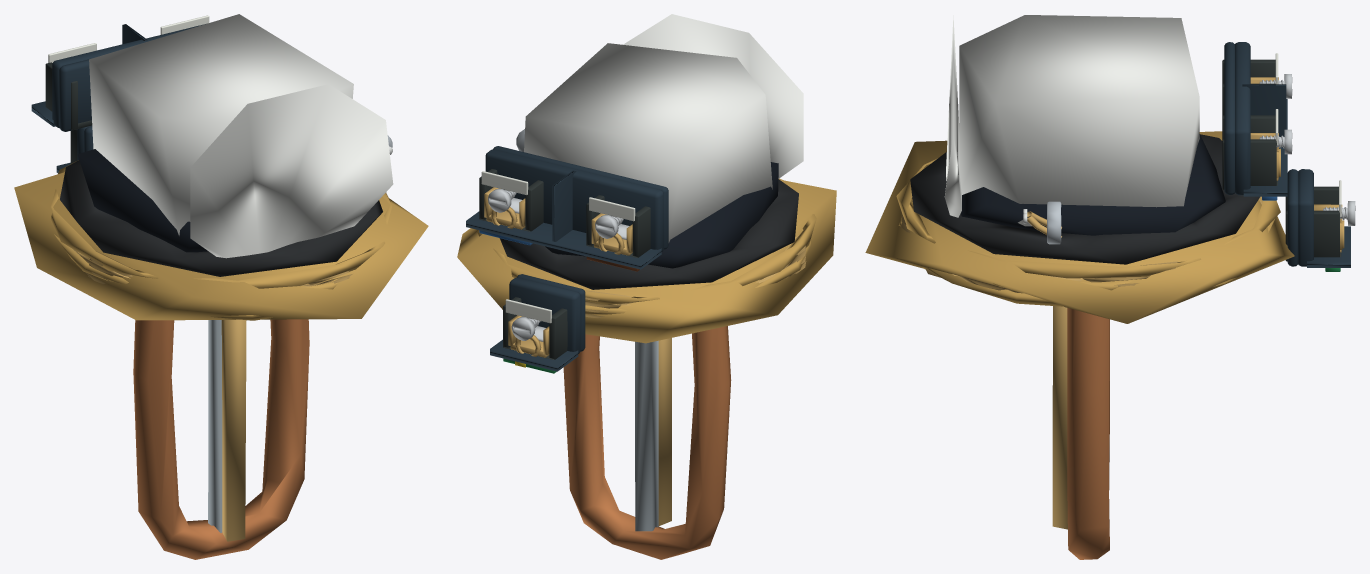
File: heater_immersion.low.glb
The picture shows the model from 3 angles, left to right: view 1: azimuth 30°, elevation 25°; view 2: azimuth 150°, elevation 25°; view 3: azimuth 270°, elevation 25°; orthographic projection. The views are drawn at different scales.
Parts seen in each view (by area): view 1: part:body, part:cover, part:element, Immersion flange gasket, detail:heat-transfer-construction · Detail machined brass, part:mounting · Original df732090, part:terminals · Original a463fd81, part:body.001, detail:terminal-clamp:L · Detail moulded engineering polymer; view 2: part:body, part:element, part:terminals · Original a463fd81, Immersion flange gasket, part:cover, part:body.001, detail:heat-transfer-construction · Detail machined brass, part:mounting · Original df732090, detail:terminal-clamp:PE · Detail moulded engineering polyme, detail:terminal-clamp:L · Detail moulded engineering polymer, detail:terminal-clamp:N · Detail moulded engineering polymer, detail:terminal-clamp:L · Detail machined brass (+8 smaller); view 3: part:body, Immersion flange gasket, part:element, part:terminals · Original a463fd81, part:mounting · Original df732090, detail:heat-transfer-construction · Detail machined brass, part:cover, detail:terminal-clamp:N · Detail moulded engineering polymer, detail:terminal-clamp:PE · Detail moulded engineering polyme, detail:terminal-clamp:L · Detail moulded engineering polymer, Thermal cut-out disc.
Boxes of the visible parts, x1,y1,x2,y2 form: part:body: (14,14,428,320); part:cover: (190,84,393,258); part:element: (133,319,309,559); Immersion flange gasket: (60,160,382,276); detail:heat-transfer-construction · Detail machined brass: (68,246,352,541); part:mounting · Original df732090: (50,160,392,320); part:terminals · Original a463fd81: (31,24,205,172); part:body.001: (208,320,222,532); detail:terminal-clamp:L · Detail moulded engineering polymer: (45,62,92,130); part:body: (457,43,836,343); part:element: (563,326,731,559); part:terminals · Original a463fd81: (466,146,668,371); Immersion flange gasket: (499,179,798,289); part:cover: (623,14,803,178); part:body.001: (635,340,658,531); detail:heat-transfer-construction · Detail machined brass: (585,233,806,525); part:mounting · Original df732090: (477,178,816,314); detail:terminal-clamp:PE · Detail moulded engineering polyme: (503,297,567,359); detail:terminal-clamp:L · Detail moulded engineering polymer: (586,195,650,257); detail:terminal-clamp:N · Detail moulded engineering polymer: (479,169,543,231); detail:terminal-clamp:L · Detail machined brass: (591,213,632,255); part:body: (865,15,1294,323); Immersion flange gasket: (910,134,1259,264); part:element: (1067,308,1109,559); part:terminals · Original a463fd81: (1224,42,1350,267); part:mounting · Original df732090: (896,158,1280,306); detail:heat-transfer-construction · Detail machined brass: (901,196,1263,529); part:cover: (944,15,961,217); detail:terminal-clamp:N · Detail moulded engineering polymer: (1222,115,1277,189); detail:terminal-clamp:PE · Detail moulded engineering polyme: (1285,186,1341,261); detail:terminal-clamp:L · Detail moulded engineering polymer: (1222,59,1275,115); Thermal cut-out disc: (1047,201,1061,244).
Size of the model in its own units: 0.8034 by 1.16 by 1.
